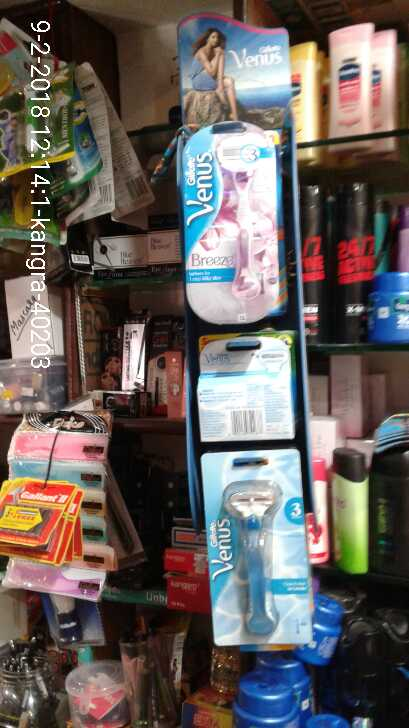venus: (177, 119, 285, 333), (204, 445, 315, 640)
